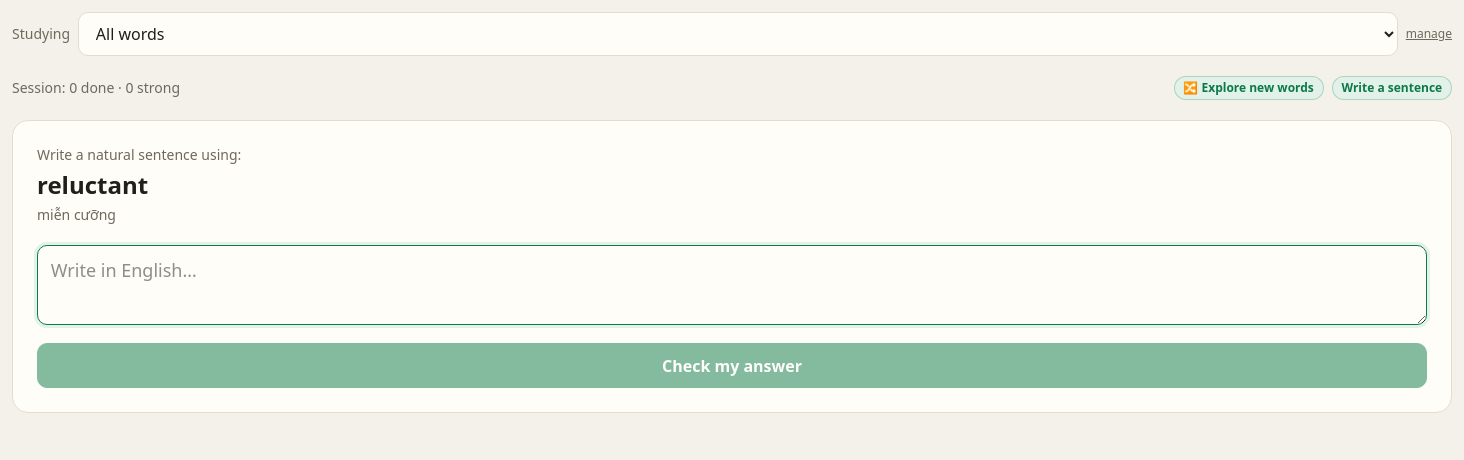
Scenario: PracticePage — Check my answer renders the verdict + score › shows the LLM verdict and score after checking a written answer
Expected: the text "reluctant" is shown, left=37, top=168, right=148, bottom=201
Type an answer, then check it.
Step 1. Type "She was reluctant to leave." into the text box with placeholder "Write in English…" → {"x": 732, "y": 285}, box left=37, top=245, right=1427, bottom=325
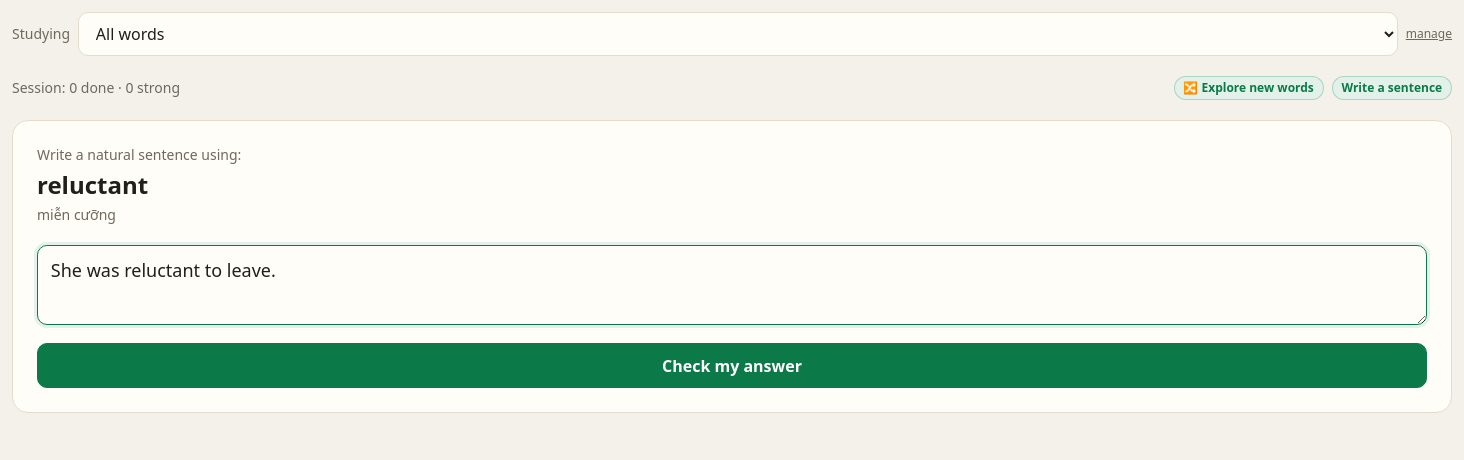
Step 2. Click the button "Check my answer" → {"x": 732, "y": 366}, box left=37, top=343, right=1427, bottom=388
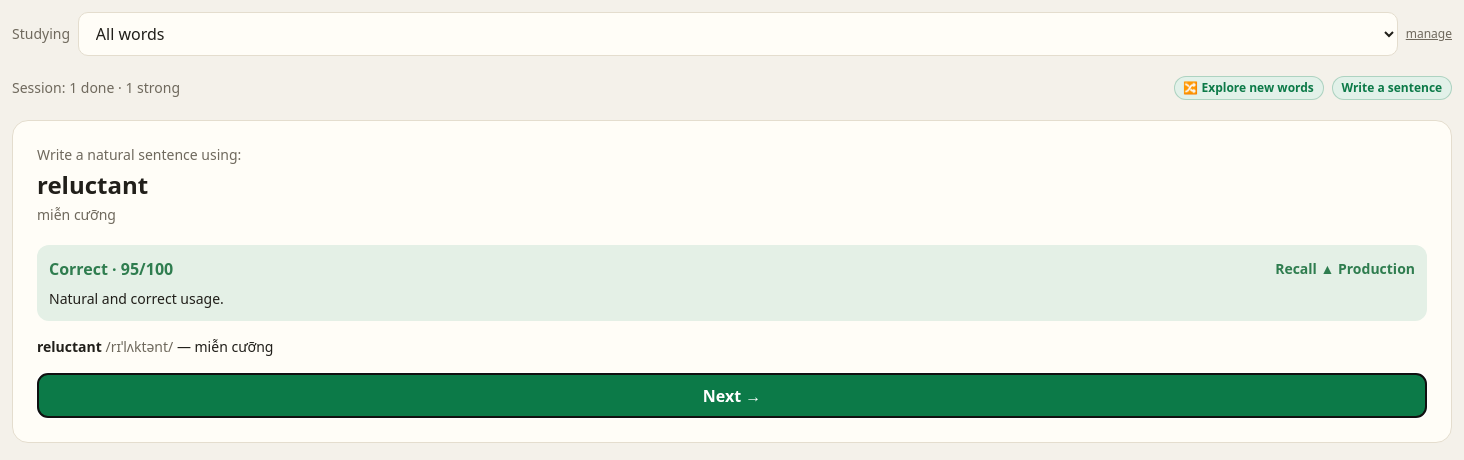
Expected: the text "Correct · 95/100" is shown, left=49, top=257, right=173, bottom=281
Expected: the text "Natural and correct usage." is shown, left=49, top=289, right=224, bottom=308
